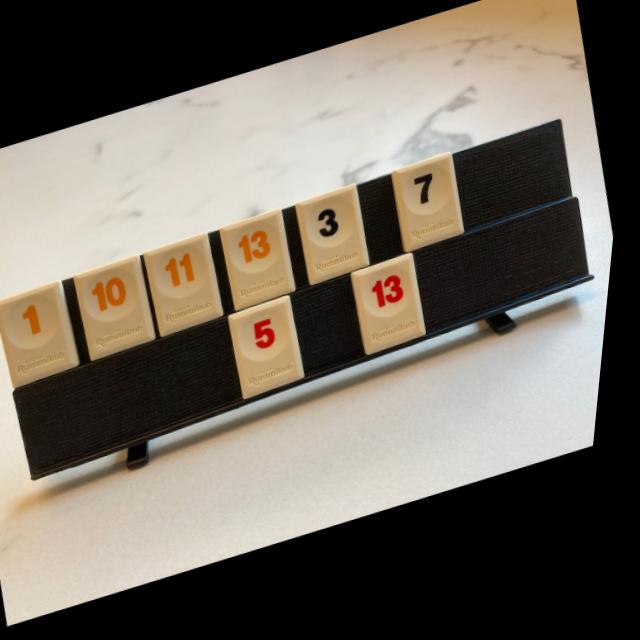black_3: (300, 189, 374, 288)
black_7: (396, 160, 467, 258)
orange_1: (0, 281, 85, 387)
orange_10: (79, 258, 160, 361)
orange_11: (149, 236, 230, 339)
orange_13: (225, 214, 300, 314)
red_13: (358, 258, 432, 359)
red_5: (235, 300, 311, 402)
